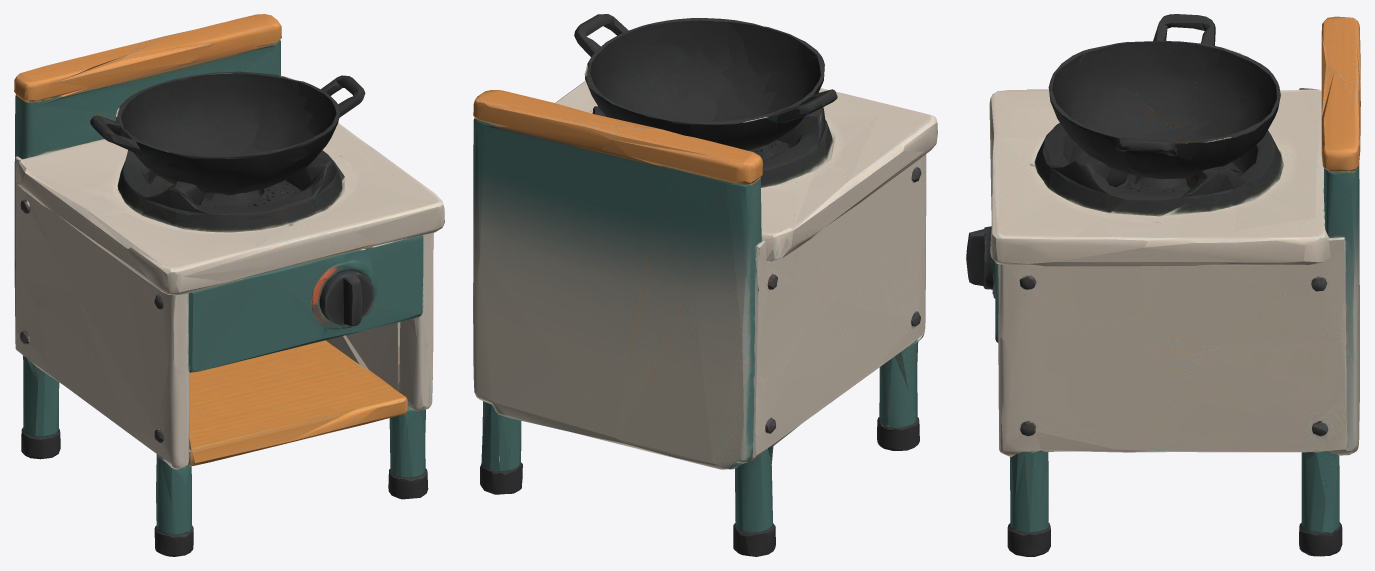
Rendered from rounded-restaurant-wok-burner-empty-wok.glb.
3 views of the same model, side by side, from view 1: azimuth 30°, elevation 25°; view 2: azimuth 150°, elevation 25°; view 3: azimuth 270°, elevation 25° (orthographic). The views are drawn at different scales.
Parts seen in each view (by area): view 1: Mesh_0; view 2: Mesh_0; view 3: Mesh_0.
Boxes of the visible parts, box(x1,y1,x2,y2) form: Mesh_0: box(14, 14, 444, 556); Mesh_0: box(473, 14, 937, 556); Mesh_0: box(966, 14, 1360, 556).
Size of the model in its own units: 0.6453 by 0.8031 by 0.7.
Materials: 1 (1 with a texture image).
